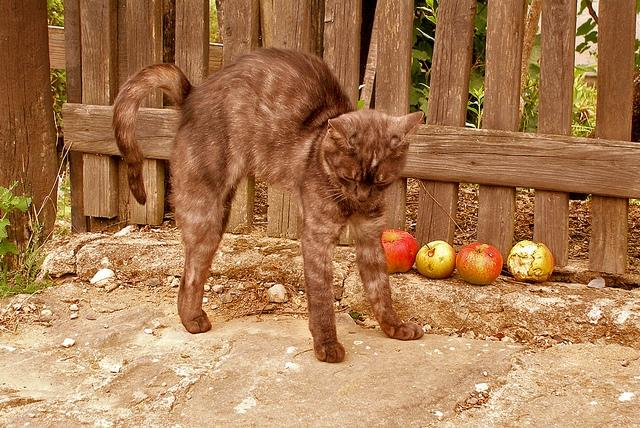apple: (507, 240, 554, 283), (456, 243, 503, 285), (415, 240, 457, 279), (382, 229, 418, 273)
